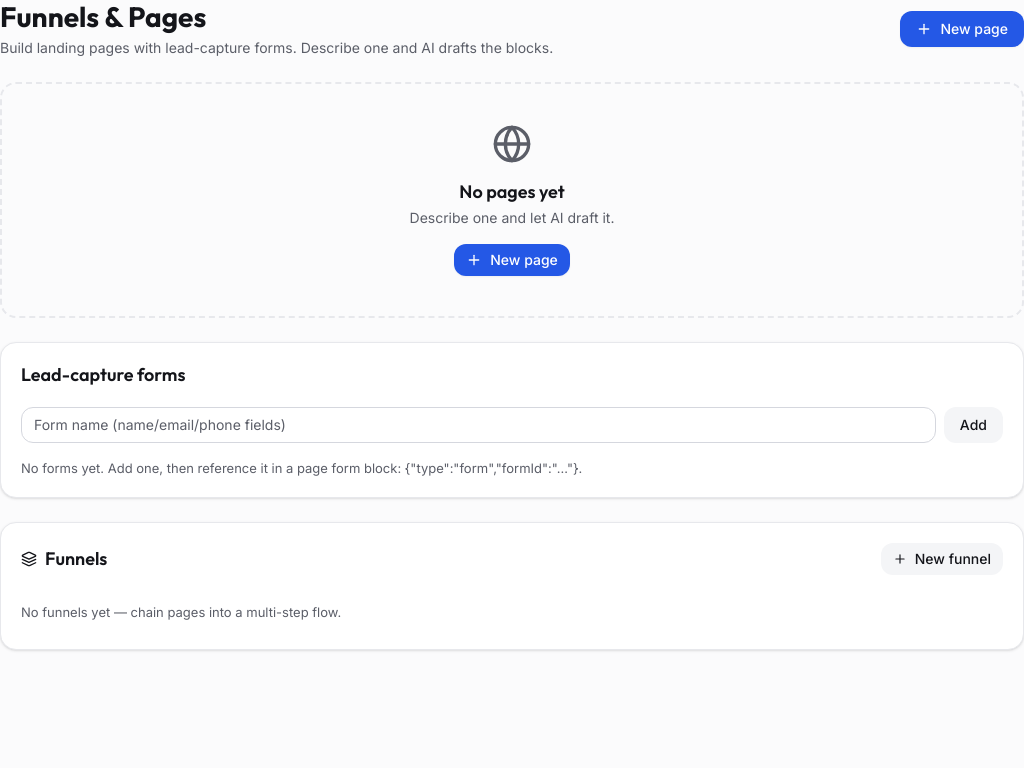
Test case: SitesPage › opens the create page dialog when "New page" is clicked
This screenshot has width=1024, height=768.
Step 1. Click the button "New page" in the row of "Funnels & Pages" → (962,29), box [900,11,1023,47]
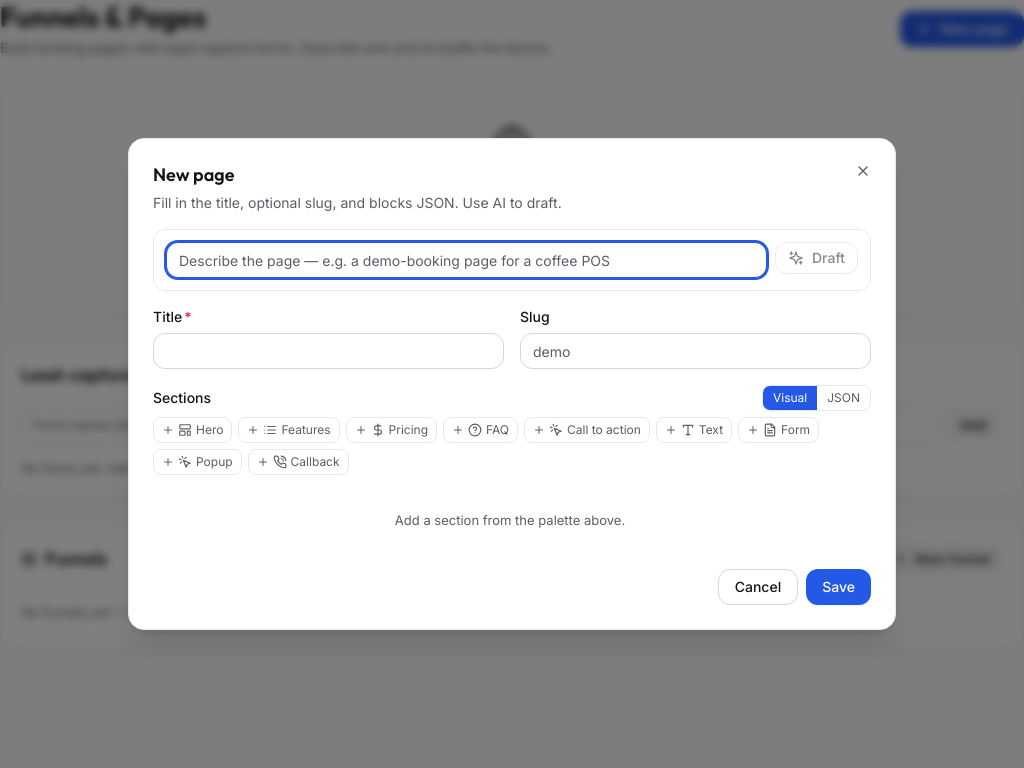
Check: the heading "New page" is shown, box [153,163,234,186]
